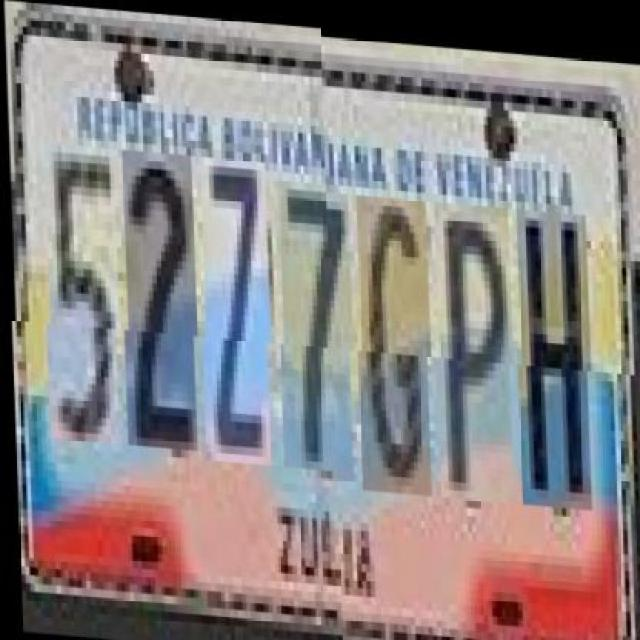2: (121, 156, 199, 456)
5: (43, 151, 122, 451)
7: (278, 183, 354, 475)
g: (355, 189, 433, 489)
h: (515, 200, 593, 500)
p: (432, 194, 516, 495)
z: (198, 162, 272, 469)
